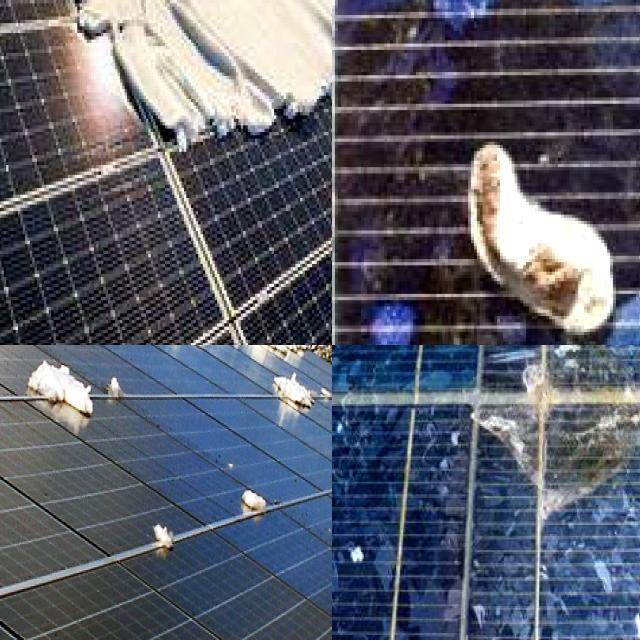bird: (432, 140, 638, 335), (332, 129, 361, 176)
panel: (77, 12, 244, 148), (0, 0, 121, 78), (239, 63, 332, 139), (25, 345, 94, 429), (0, 0, 56, 59), (234, 467, 279, 537), (142, 514, 194, 574), (43, 345, 132, 380), (124, 345, 227, 374), (275, 368, 332, 418), (251, 345, 332, 377), (103, 345, 140, 414), (296, 0, 332, 66), (0, 345, 43, 398), (0, 345, 47, 392), (0, 345, 49, 390), (0, 345, 58, 380), (0, 345, 52, 384), (171, 345, 251, 370), (0, 345, 54, 372), (0, 362, 24, 412)
shadow: (465, 345, 640, 525)
